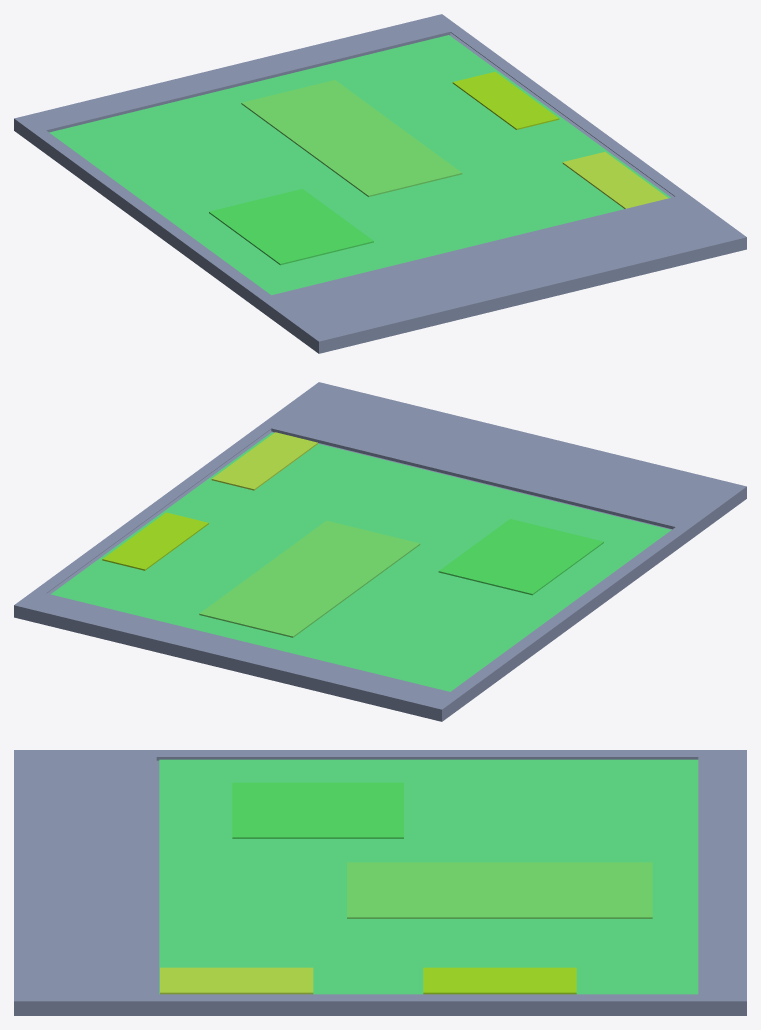
3 views of the same model, one above another, from view 1: azimuth 30°, elevation 25°; view 2: azimuth 150°, elevation 25°; view 3: azimuth 270°, elevation 25° (orthographic). The views are drawn at different scales.
Visible parts, largest first — view 1: Cube.001, Cube, Cube.004, Cube.005, Cube.003, Cube.002; view 2: Cube.001, Cube, Cube.004, Cube.005, Cube.003, Cube.002; view 3: Cube.001, Cube, Cube.004, Cube.005, Cube.003, Cube.002.
Part boxes in pixels (x1=…): Cube.001: x1=49, y1=35, x2=670, y2=295; Cube: x1=14, y1=14, x2=746, y2=353; Cube.004: x1=241, y1=80, x2=462, y2=196; Cube.005: x1=209, y1=189, x2=373, y2=265; Cube.003: x1=452, y1=71, x2=559, y2=129; Cube.002: x1=562, y1=152, x2=668, y2=208; Cube.001: x1=51, y1=432, x2=670, y2=691; Cube: x1=14, y1=382, x2=746, y2=721; Cube.004: x1=199, y1=520, x2=420, y2=637; Cube.005: x1=438, y1=519, x2=603, y2=595; Cube.003: x1=102, y1=512, x2=208, y2=570; Cube.002: x1=211, y1=432, x2=317, y2=490; Cube.001: x1=159, y1=759, x2=698, y2=994; Cube: x1=14, y1=750, x2=746, y2=1015; Cube.004: x1=347, y1=862, x2=652, y2=918; Cube.005: x1=232, y1=782, x2=403, y2=838; Cube.003: x1=423, y1=967, x2=576, y2=994; Cube.002: x1=160, y1=967, x2=313, y2=994.
Bounding box in the file's own units: 5.73 × 0.1569 × 7.07.
